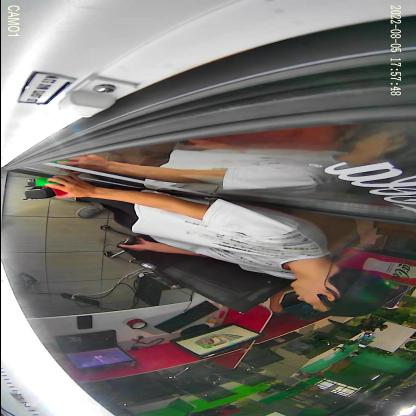green: (23, 177, 65, 187)
red: (21, 184, 67, 201)
